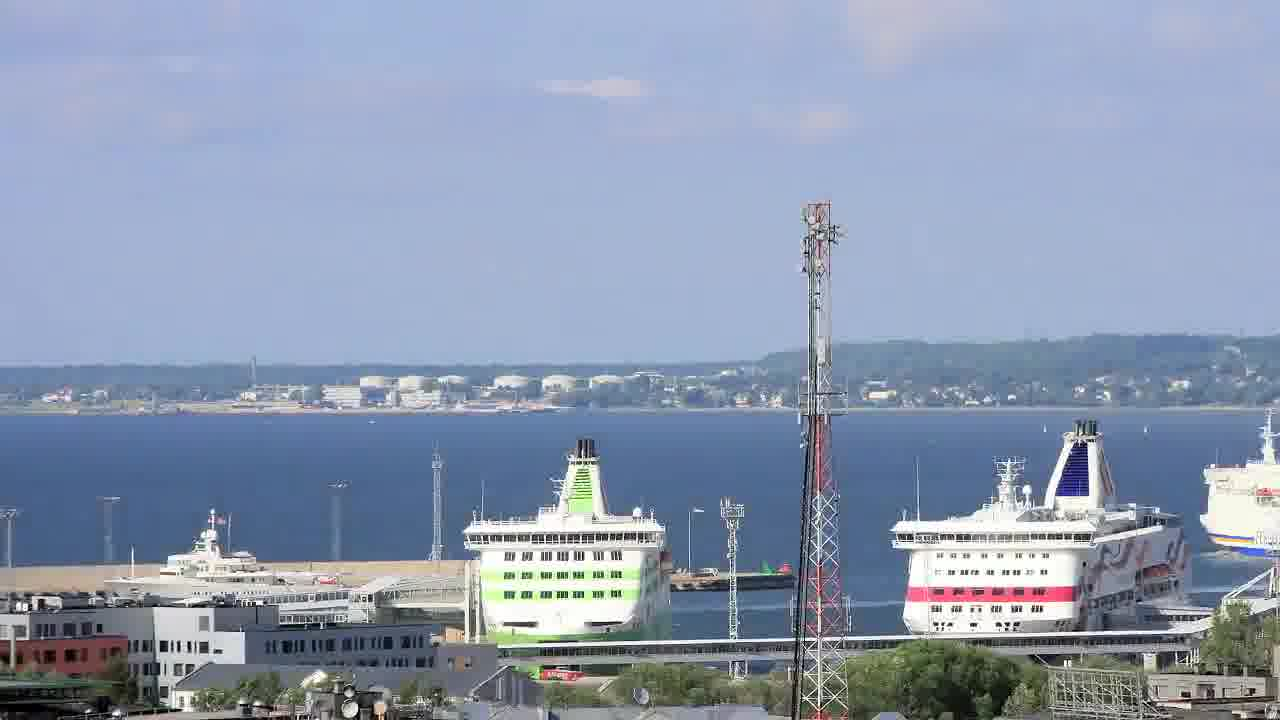type-3: (868, 415, 1225, 638), (436, 434, 694, 670), (84, 495, 358, 613), (1195, 401, 1280, 571)
